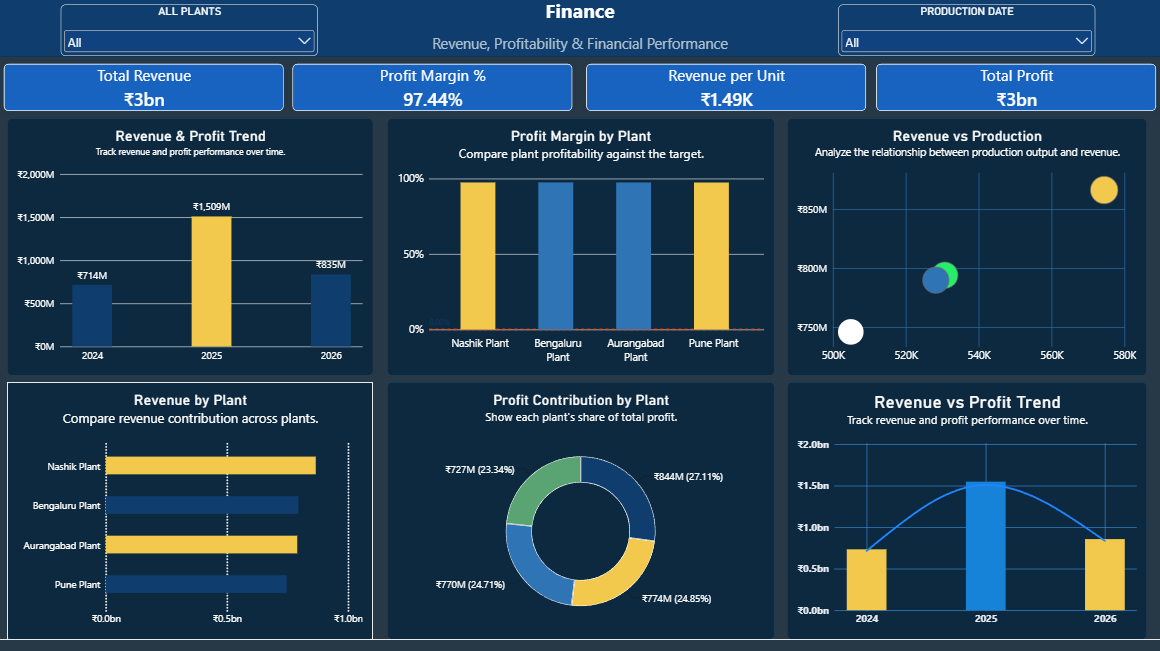

Layout of this report page (visuals, bound fields, positions):
{"tool":"powerbi","page":{"name":"Finance","canvas":[1920,1080],"ordinal":3},"visuals":[{"type":"shape","box":[0,0,1920.4,98],"z":0},{"type":"textbox","box":[0,0,1920.4,98.8],"z":1000,"group":"g1"},{"type":"cardVisual","fields":{"Data":["Manufacturing_Production_Analytics_5000_Clean.Total Revenue"]},"box":[0,98.8,483,100.9],"z":2000,"group":"g1"},{"type":"cardVisual","fields":{"Data":["Manufacturing_Production_Analytics_5000_Clean.Profit Margin %"]},"box":[475.5,98.8,483,100.9],"z":3000,"group":"g1"},{"type":"cardVisual","fields":{"Data":["Manufacturing_Production_Analytics_5000_Clean.Revenue per Unit"]},"box":[959.2,98.8,483,100.9],"z":4000,"group":"g1"},{"type":"cardVisual","fields":{"Data":["Manufacturing_Production_Analytics_5000_Clean.Total Profit"]},"box":[1436.7,98.8,483,100.9],"z":5000,"group":"g1"},{"type":"lineClusteredColumnComboChart","title":"Revenue & Profit Trend","fields":{"Category":["Manufacturing_Production_Analytics_5000_Clean.Production_Date.Variation.Date Hierarchy.Year","Manufacturing_Production_Analytics_5000_Clean.Production_Date.Variation.Date Hierarchy.Month"],"Y":["Manufacturing_Production_Analytics_5000_Clean.Total Profit"]},"box":[16,199.7,603,424],"z":6000,"group":"g2"},{"type":"clusteredBarChart","title":"Revenue by Plant","fields":{"Category":["Manufacturing_Production_Analytics_5000_Clean.Plant"],"Y":["Manufacturing_Production_Analytics_5000_Clean.Total Revenue"]},"box":[16,634,603,424],"z":7000,"group":"g2"},{"type":"donutChart","title":"Profit Contribution by Plant","fields":{"Category":["Manufacturing_Production_Analytics_5000_Clean.Plant"],"Y":["Manufacturing_Production_Analytics_5000_Clean.Total Profit"]},"box":[642.2,634,638.1,424],"z":8000,"group":"g2"},{"type":"clusteredColumnChart","title":"Profit Margin by Plant","fields":{"Category":["Manufacturing_Production_Analytics_5000_Clean.Plant"],"Y":["Manufacturing_Production_Analytics_5000_Clean.Profit Margin %"]},"box":[642.2,199.7,638.1,424],"z":9000,"group":"g2"},{"type":"scatterChart","title":"Revenue vs Production","fields":{"Series":["Manufacturing_Production_Analytics_5000_Clean.Plant"],"Category":["Manufacturing_Production_Analytics_5000_Clean.Plant"],"X":["Manufacturing_Production_Analytics_5000_Clean.Total Production"],"Y":["Manufacturing_Production_Analytics_5000_Clean.Total Revenue"],"Size":["Manufacturing_Production_Analytics_5000_Clean.Total Profit"]},"box":[1301.2,199.7,592.8,424],"z":10000,"group":"g2"},{"type":"lineClusteredColumnComboChart","title":"Revenue vs Profit Trend","fields":{"Category":["Manufacturing_Production_Analytics_5000_Clean.Production_Date.Variation.Date Hierarchy.Year","Manufacturing_Production_Analytics_5000_Clean.Production_Date.Variation.Date Hierarchy.Month"],"Y":["Manufacturing_Production_Analytics_5000_Clean.Total Revenue"],"Y2":["Manufacturing_Production_Analytics_5000_Clean.Total Profit"]},"box":[1301,634,593,424],"z":11000,"group":"g2"},{"type":"slicer","title":"PRODUCTION DATE","fields":{"Values":["Manufacturing_Production_Analytics_5000_Clean.Production_Date.Variation.Date Hierarchy.Year","Manufacturing_Production_Analytics_5000_Clean.Production_Date.Variation.Date Hierarchy.Month","Manufacturing_Production_Analytics_5000_Clean.Production_Date.Variation.Date Hierarchy.Day"]},"box":[1385.5,12.8,423,85],"z":12000,"group":"g1"},{"type":"slicer","title":"ALL PLANTS","fields":{"Values":["Manufacturing_Production_Analytics_5000_Clean.Plant"]},"box":[104.8,12.8,423,85],"z":13000,"group":"g1"},{"type":"group","id":"g1","title":"Group 1","box":[0,0,1920.4,199.7],"z":13001,"group":"g2"},{"type":"group","id":"g2","title":"Group 2","box":[0,0,1920.4,1058],"z":13002}]}

Visuals, with their boxes in screenshot pixels (x1, y1, x2, y2), scaled from the page's 1920x1080 canvas onto the 1160x651 screenshot:
shape: <region>0, 0, 1159, 59</region>
textbox: <region>0, 0, 1159, 60</region>
cardVisual - Manufacturing_Production_Analytics_5000_Clean.Total Revenue: <region>0, 60, 292, 120</region>
cardVisual - Manufacturing_Production_Analytics_5000_Clean.Profit Margin %: <region>287, 60, 579, 120</region>
cardVisual - Manufacturing_Production_Analytics_5000_Clean.Revenue per Unit: <region>580, 60, 871, 120</region>
cardVisual - Manufacturing_Production_Analytics_5000_Clean.Total Profit: <region>868, 60, 1159, 120</region>
"Revenue & Profit Trend" lineClusteredColumnComboChart: <region>10, 120, 374, 376</region>
"Revenue by Plant" clusteredBarChart: <region>10, 382, 374, 638</region>
"Profit Contribution by Plant" donutChart: <region>388, 382, 774, 638</region>
"Profit Margin by Plant" clusteredColumnChart: <region>388, 120, 774, 376</region>
"Revenue vs Production" scatterChart: <region>786, 120, 1144, 376</region>
"Revenue vs Profit Trend" lineClusteredColumnComboChart: <region>786, 382, 1144, 638</region>
"PRODUCTION DATE" slicer: <region>837, 8, 1093, 59</region>
"ALL PLANTS" slicer: <region>63, 8, 319, 59</region>
"Group 1" group: <region>0, 0, 1159, 120</region>
"Group 2" group: <region>0, 0, 1159, 638</region>
